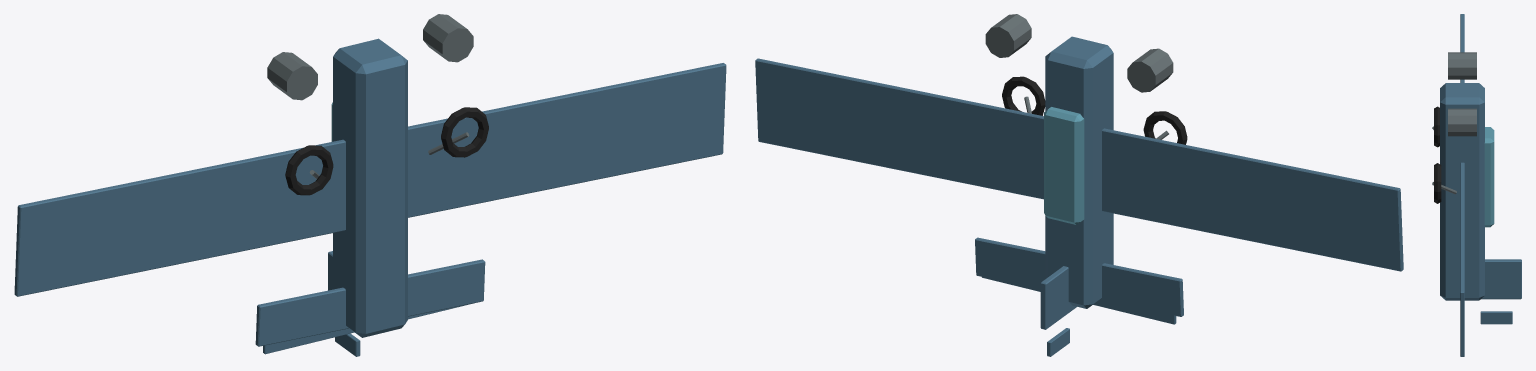
3 views of the same model, side by side, from view 1: azimuth 30°, elevation 25°; view 2: azimuth 150°, elevation 25°; view 3: azimuth 270°, elevation 25° (orthographic). The views are drawn at different scales.
Visible parts, largest first — view 1: main_wing.029, fuselage.024, horizontal_tail.029, engine_mount_0.029, engine_mount_1.001, wheel_0.024, wheel_1.024, elevator.029; view 2: main_wing.029, fuselage.024, horizontal_tail.029, canopy.024, aileron_L.029, aileron_R.029, elevator.029, vertical_tail.029, engine_mount_1.001, engine_mount_0.029, wheel_1.024, wheel_0.024; view 3: fuselage.024, vertical_tail.029, main_wing.029, canopy.024, engine_mount_1.001, engine_mount_0.029, rudder.029, wheel_1.024, wheel_0.024.
Part boxes in pixels (bbox=[...]): main_wing.029: bbox=[14, 63, 726, 296]; fuselage.024: bbox=[333, 38, 407, 337]; horizontal_tail.029: bbox=[255, 259, 485, 346]; engine_mount_0.029: bbox=[267, 52, 317, 100]; engine_mount_1.001: bbox=[423, 14, 473, 62]; wheel_0.024: bbox=[285, 145, 333, 195]; wheel_1.024: bbox=[441, 107, 488, 157]; elevator.029: bbox=[263, 303, 473, 354]; main_wing.029: bbox=[755, 58, 1403, 271]; fuselage.024: bbox=[1045, 36, 1113, 308]; horizontal_tail.029: bbox=[975, 237, 1183, 316]; canopy.024: bbox=[1044, 107, 1084, 224]; aileron_L.029: bbox=[1226, 197, 1393, 261]; aileron_R.029: bbox=[763, 85, 929, 148]; elevator.029: bbox=[981, 257, 1176, 324]; vertical_tail.029: bbox=[1040, 266, 1076, 329]; engine_mount_1.001: bbox=[985, 14, 1031, 57]; engine_mount_0.029: bbox=[1127, 48, 1173, 92]; wheel_1.024: bbox=[1002, 76, 1045, 115]; wheel_0.024: bbox=[1143, 111, 1187, 144]; fuselage.024: bbox=[1440, 83, 1484, 300]; vertical_tail.029: bbox=[1481, 259, 1521, 299]; main_wing.029: bbox=[1460, 14, 1464, 356]; canopy.024: bbox=[1484, 127, 1494, 227]; engine_mount_1.001: bbox=[1448, 108, 1476, 136]; engine_mount_0.029: bbox=[1448, 52, 1476, 79]; rudder.029: bbox=[1480, 311, 1512, 324]; wheel_1.024: bbox=[1434, 163, 1441, 203]; wheel_0.024: bbox=[1434, 106, 1439, 147].
Bounding box in the file's own units: 15.92 × 6.98 × 2.34.
